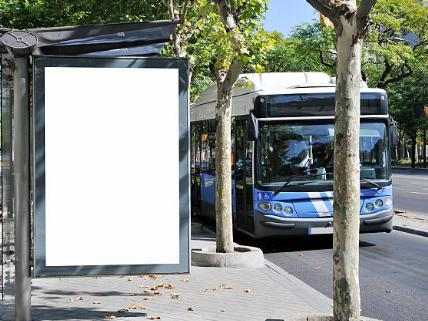vehicle: (191, 71, 398, 239)
